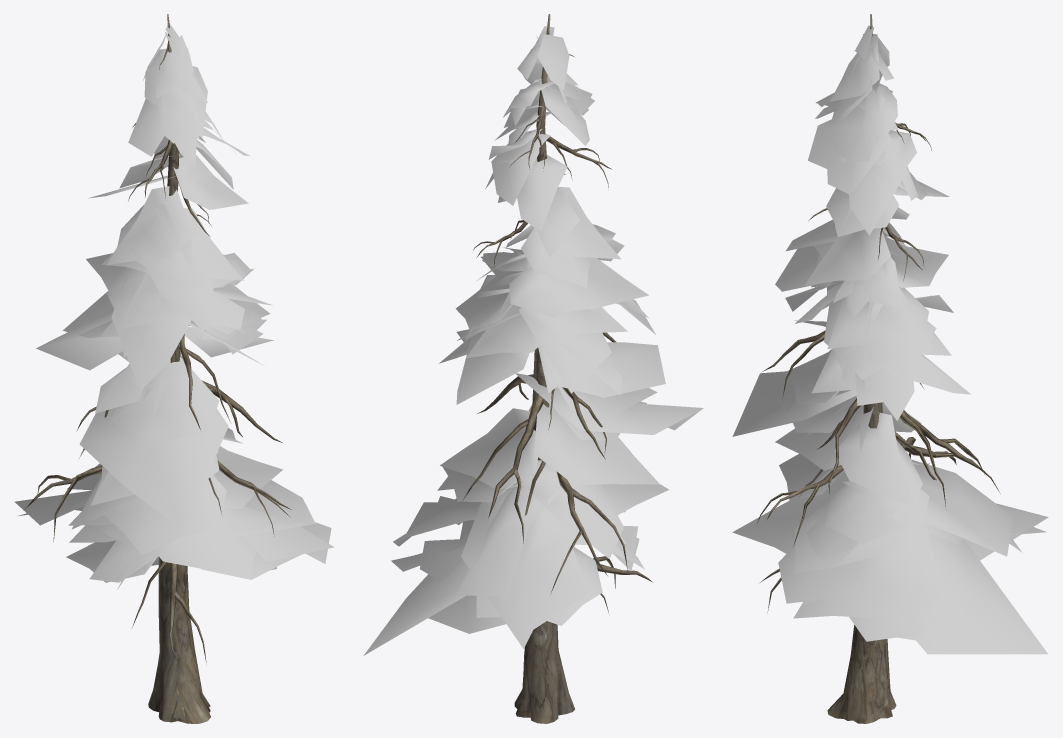
File: SM_Com_Tre_15BL.fbx
The picture shows the model from 3 angles, left to right: view 1: azimuth 30°, elevation 25°; view 2: azimuth 150°, elevation 25°; view 3: azimuth 270°, elevation 25°; orthographic projection.
Parts seen in each view (by area): view 1: SM_Com_Tre_15BL.mo; view 2: SM_Com_Tre_15BL.mo; view 3: SM_Com_Tre_15BL.mo.
Boxes of the visible parts, <box> form: SM_Com_Tre_15BL.mo: <box>14,14,333,723</box>; SM_Com_Tre_15BL.mo: <box>363,14,703,723</box>; SM_Com_Tre_15BL.mo: <box>732,14,1048,723</box>.
Bounding box in the file's own units: 5.01 × 13.54 × 5.62.
